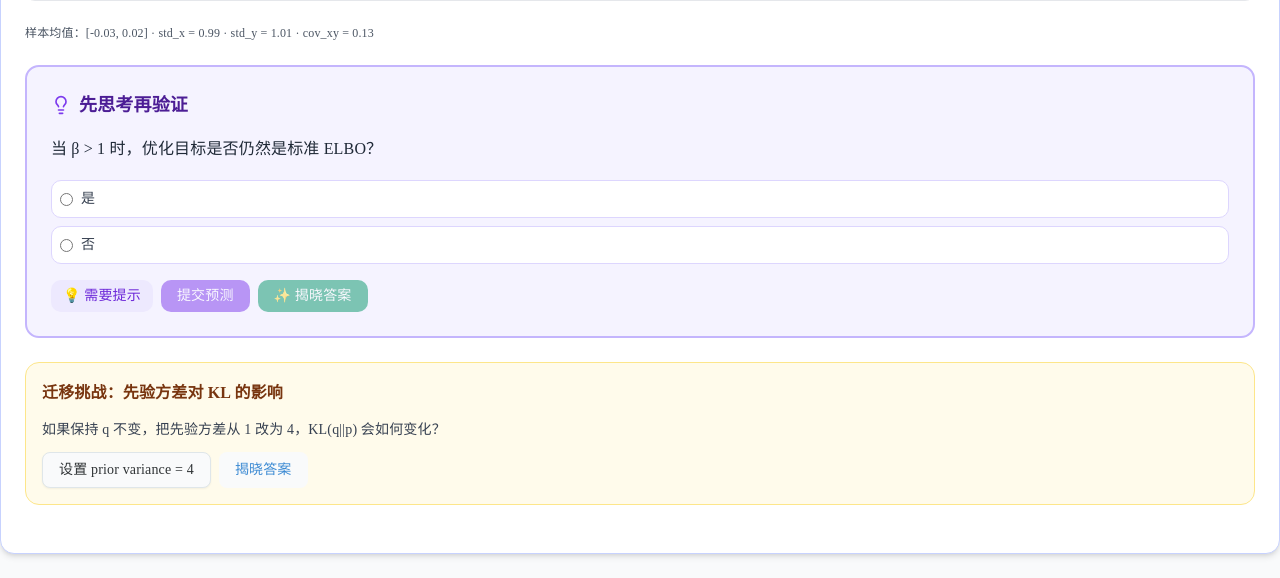
Test: chapter 16 autoencoders teaching-ready loop › requires a VAE judgment before explaining the beta-objective boundary
This screenshot has width=1280, height=578.
(page scrolled)
Expected: the text "标准 ELBO 严格对应" is not shown
Step 1. Click the radio button labelled "否" → click(66, 245), box [60,239,73,252]
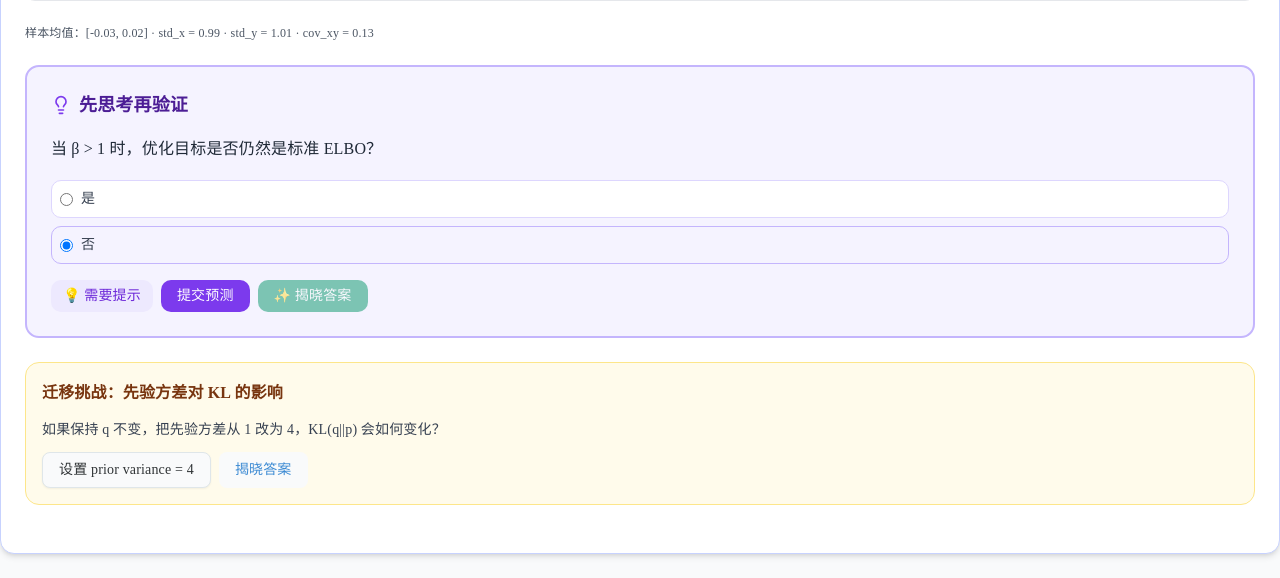
Step 2. Click the button "提交预测" → click(205, 296), box [161,280,250,312]
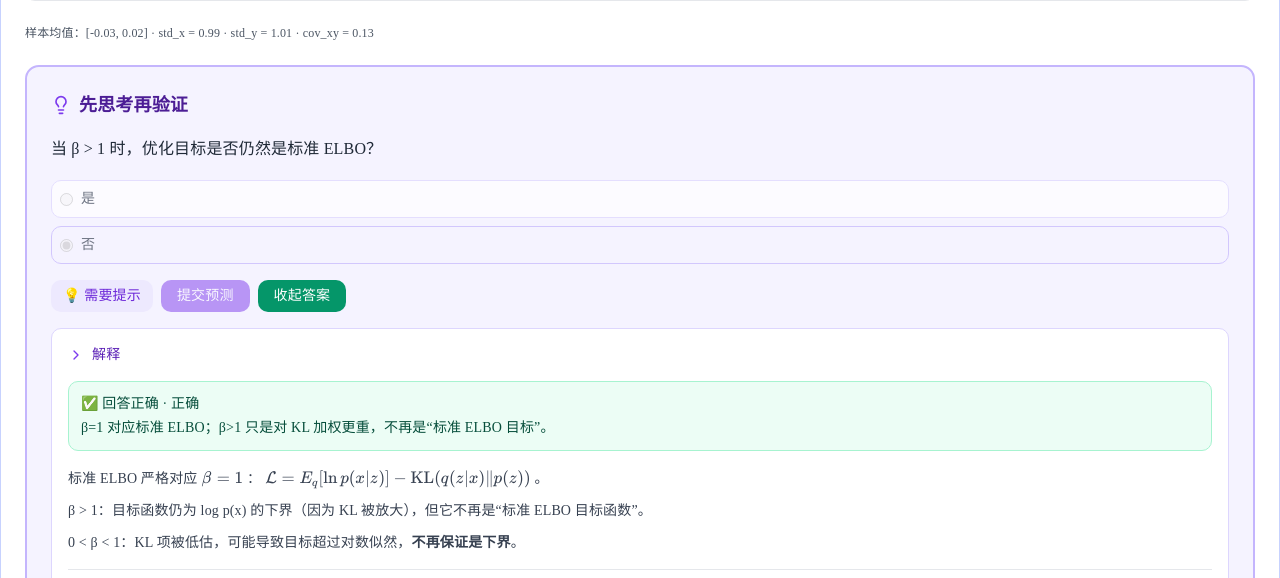
Now the element with test id "evaluation-feedback" shows "回答正确", box [81,396,159,411]
Now the text "标准 ELBO 严格对应" is shown, box [68,471,198,486]
Now the text "不再保证是下界" is shown, box [412,535,511,550]
